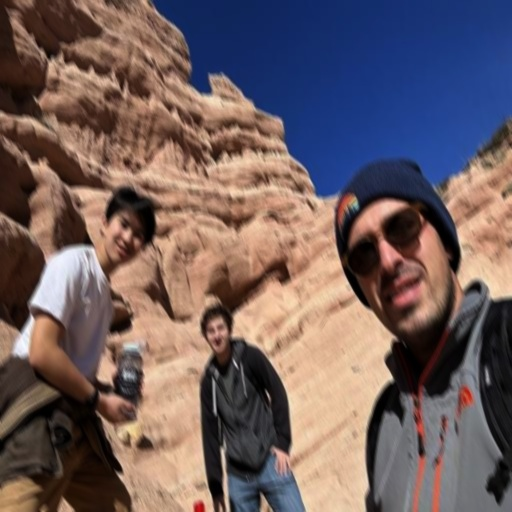bottle: (115, 339, 145, 417), (194, 501, 206, 512)
